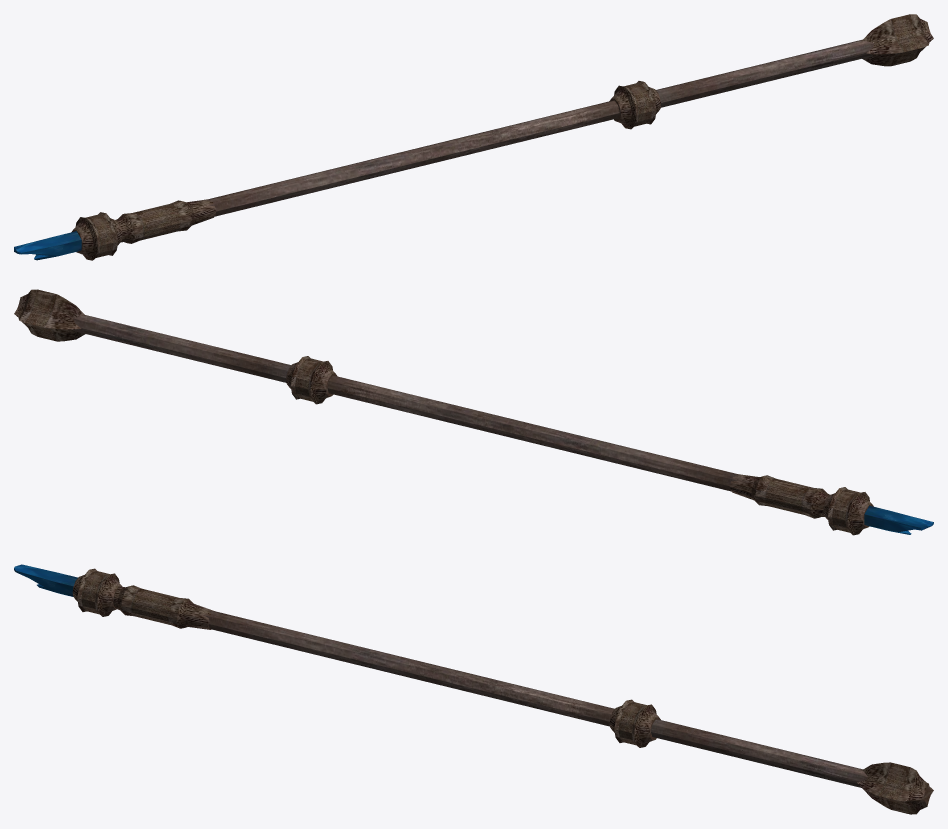
File: G3_WEAPON_STAFF_WATERMAGE_01.glb
3 renders of one model, top to bottom at view 1: azimuth 30°, elevation 25°; view 2: azimuth 150°, elevation 25°; view 3: azimuth 330°, elevation 25°, orthographic.
Parts seen in each view (by area): view 1: G3_WEAPON_STAFF_WATERMAGE_01; view 2: G3_WEAPON_STAFF_WATERMAGE_01; view 3: G3_WEAPON_STAFF_WATERMAGE_01.
Part boxes in pixels (x1,y1,x2,y2): G3_WEAPON_STAFF_WATERMAGE_01: (14,14,933,260); G3_WEAPON_STAFF_WATERMAGE_01: (14,289,933,535); G3_WEAPON_STAFF_WATERMAGE_01: (14,564,933,814).
Bounding box in the file's own units: 1.95 × 0.0968 × 0.0978.
Materials: 1 (1 with a texture image).
